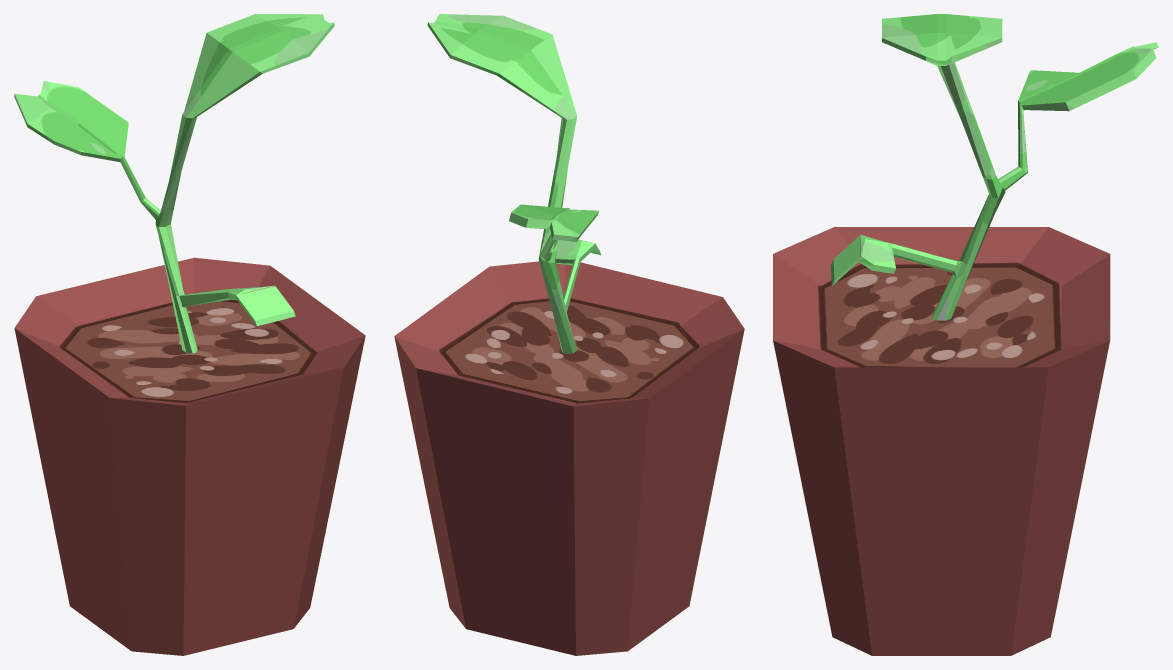
File: Plant-V.1.fbx
3 renders of one model, left to right at view 1: azimuth 30°, elevation 25°; view 2: azimuth 150°, elevation 25°; view 3: azimuth 270°, elevation 25°, orthographic. The views are drawn at different scales.
Parts seen in each view (by area): view 1: Cube; view 2: Cube; view 3: Cube.
Boxes of the visible parts, <box> form: Cube: <box>14,14,365,655</box>; Cube: <box>394,14,744,655</box>; Cube: <box>773,14,1158,655</box>.
Size of the model in its own units: 173 by 345 by 193.
